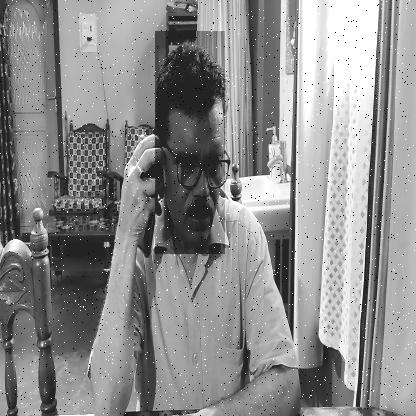Distracted: (155, 31, 226, 254)
